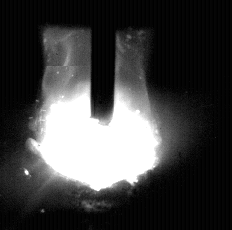arame: (92, 0, 115, 126)
poca: (35, 0, 162, 230)
